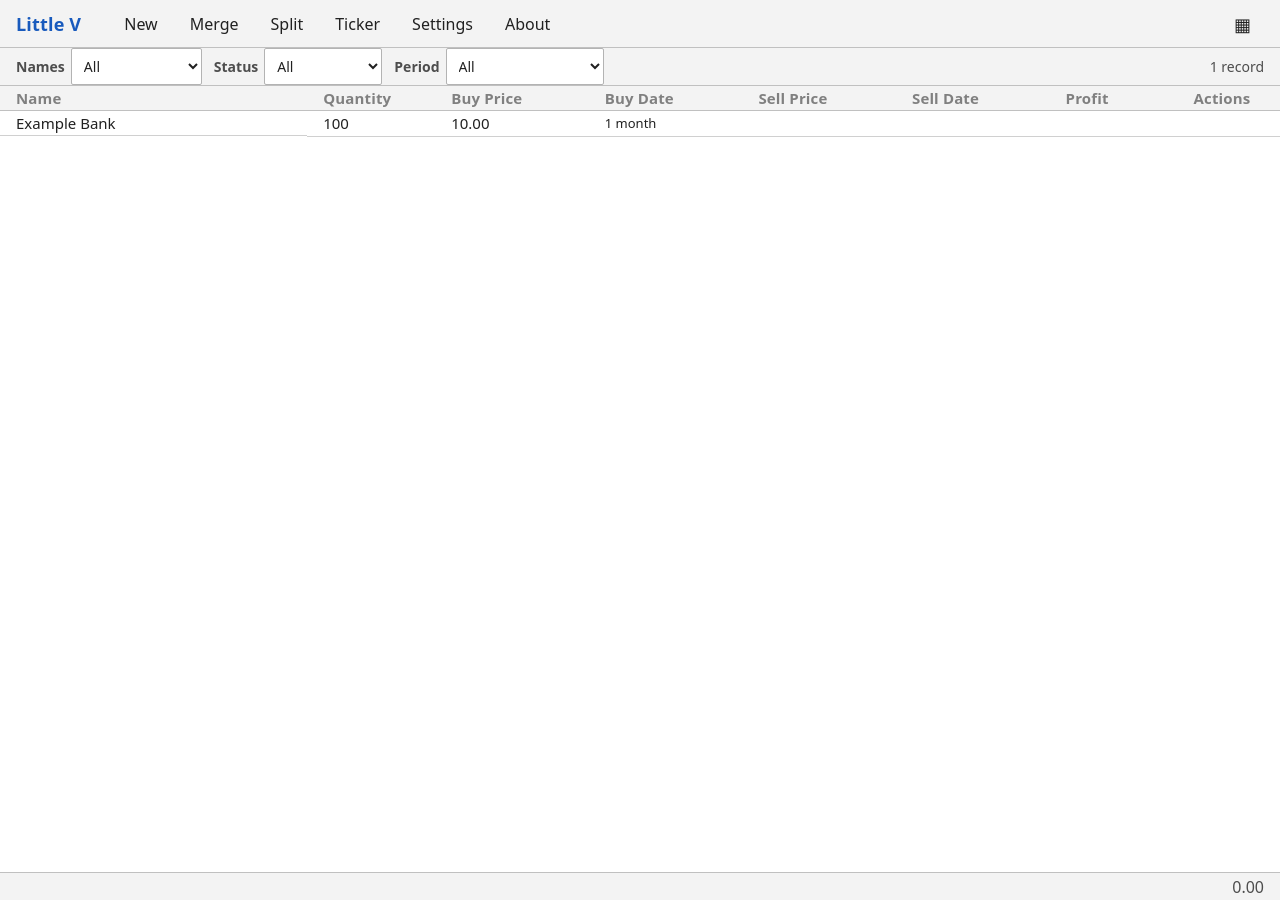
Test: App › saves an edited transaction and reloads the table
The image size is (1280, 900).
Double-click the text "Example Bank": (640, 123) [0,110,1279,136]
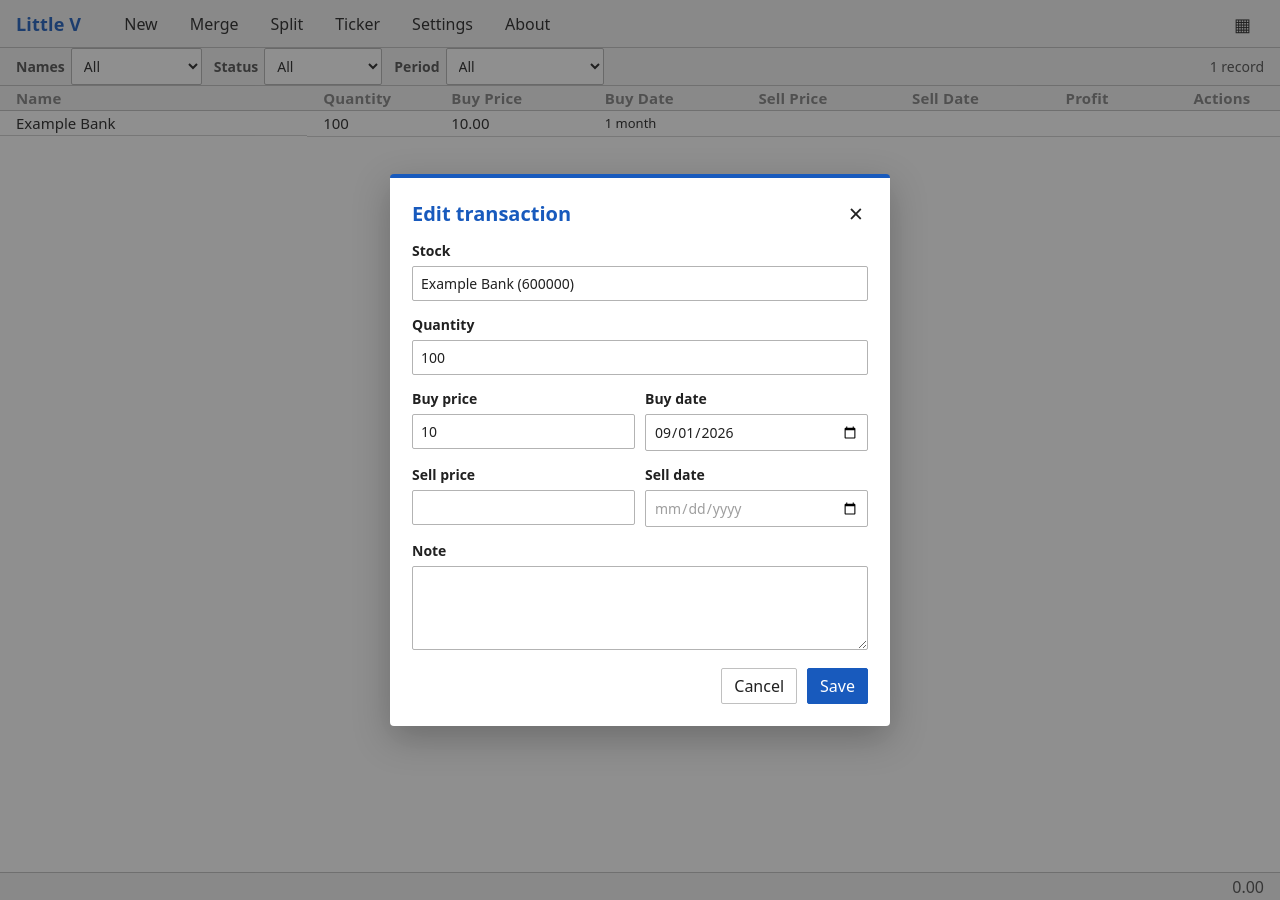
Expected: the heading "Edit transaction" is shown, [412,200,571,227]
Replace the text in the number field labelled "Buy price" with "12": (524, 432) [412,414,635,449]
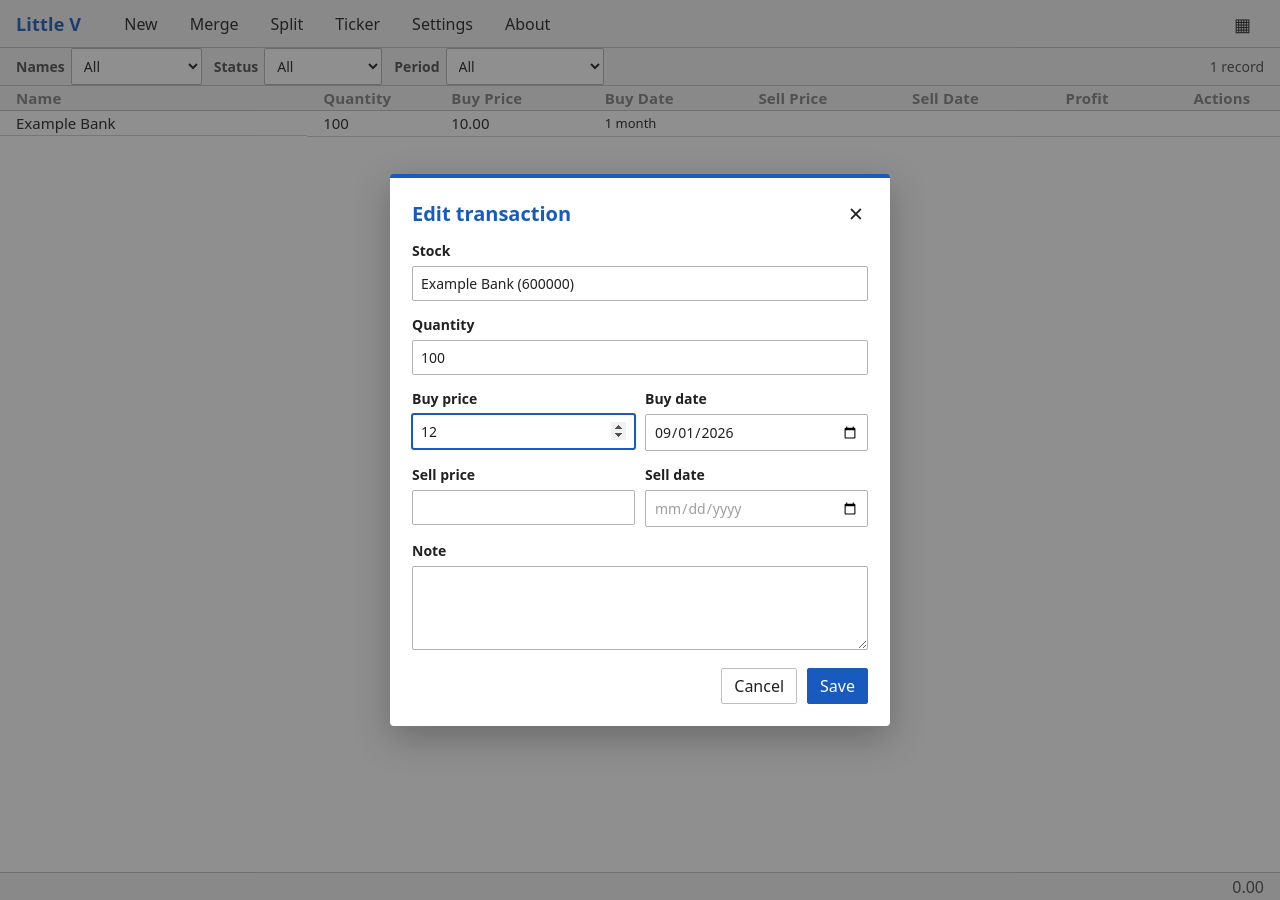
Click the button "Save": (838, 686) [807,668,868,704]
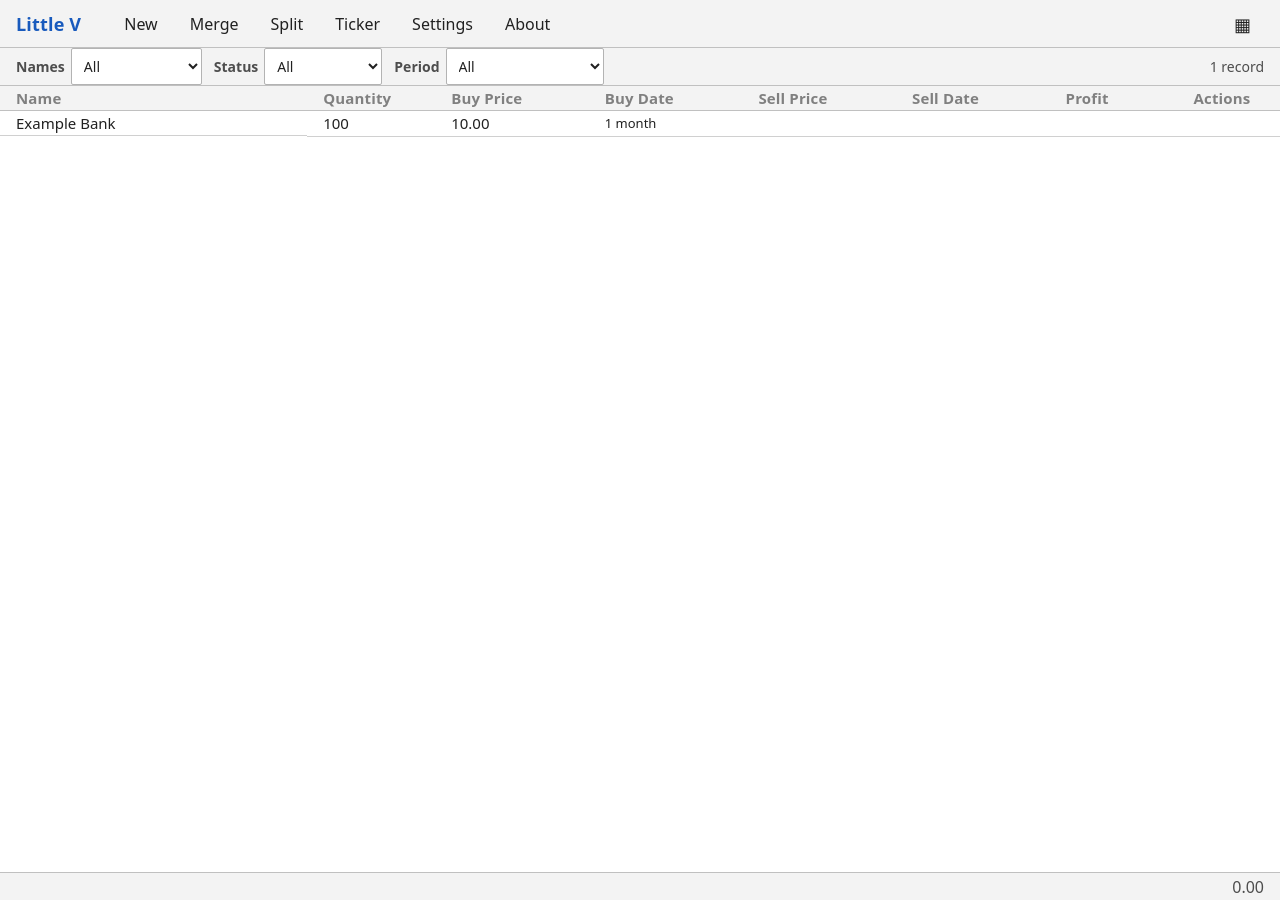
Expected: the heading "Edit transaction" is gone
